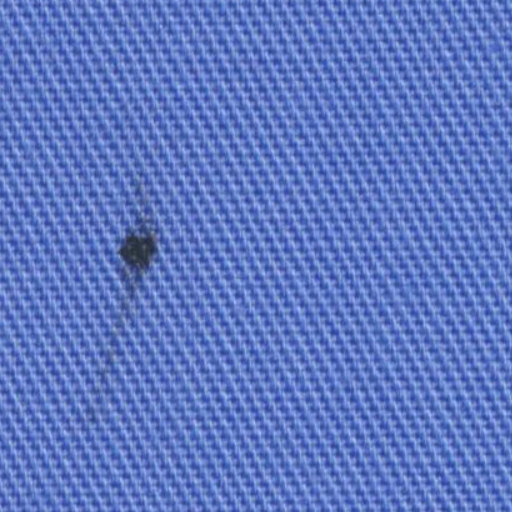WuZi: (76, 174, 198, 451)
